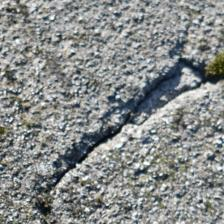Crack: (16, 78, 116, 143), (47, 57, 124, 131)
